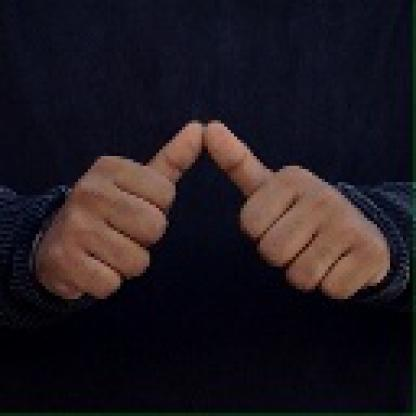A: (28, 118, 398, 305)
